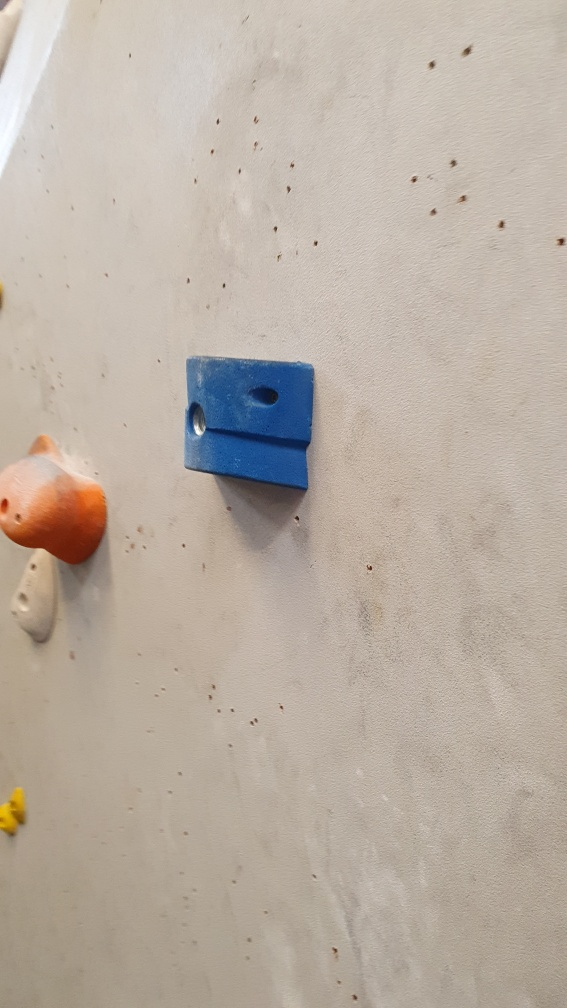Pinch: (184, 349, 319, 492)
Sloper: (1, 455, 84, 552)
